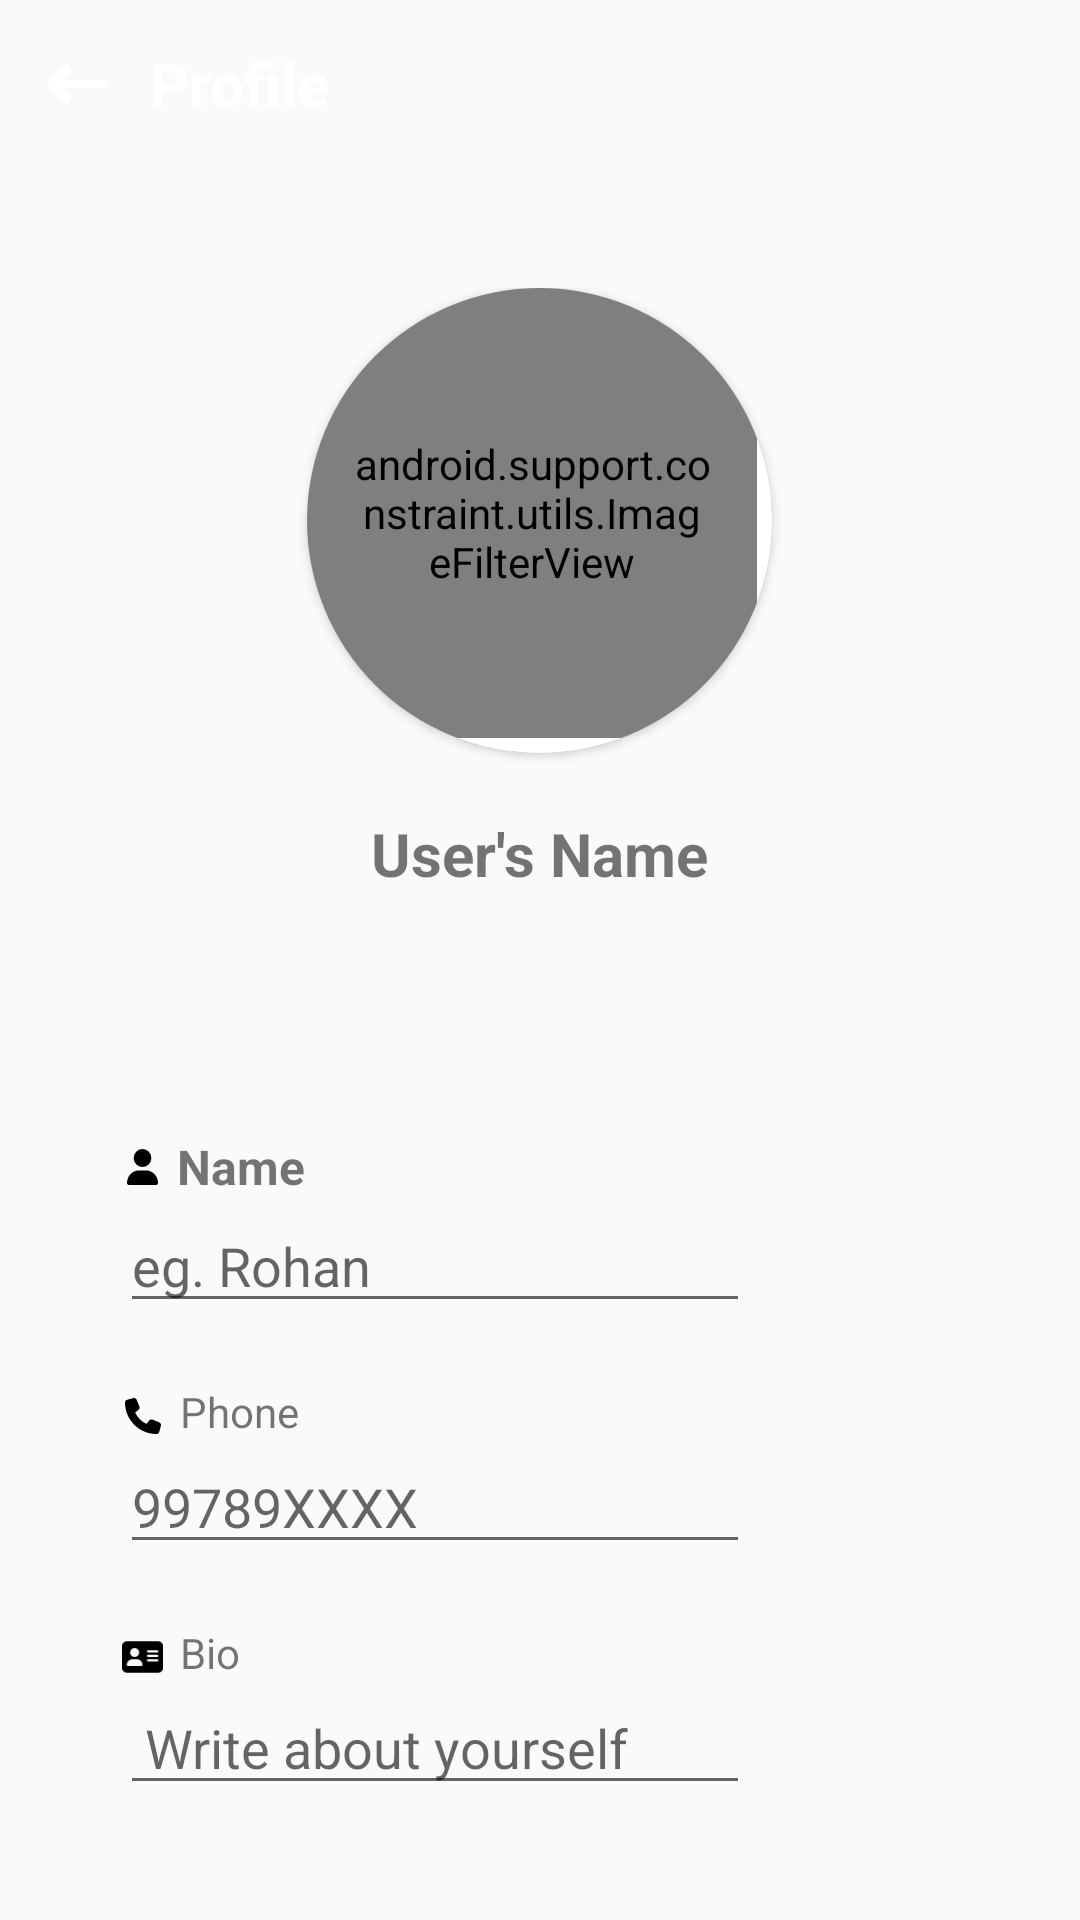

Named icons in this screenshot (1080px×1920px) and their centers, (x=x, y=y):
address card: (x=142, y=1657)
user: (x=142, y=1167)
